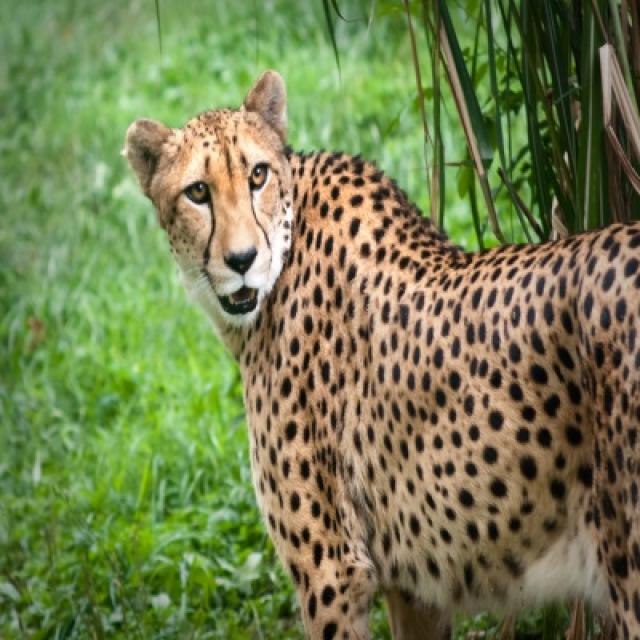Cheetah: (115, 69, 638, 638)
